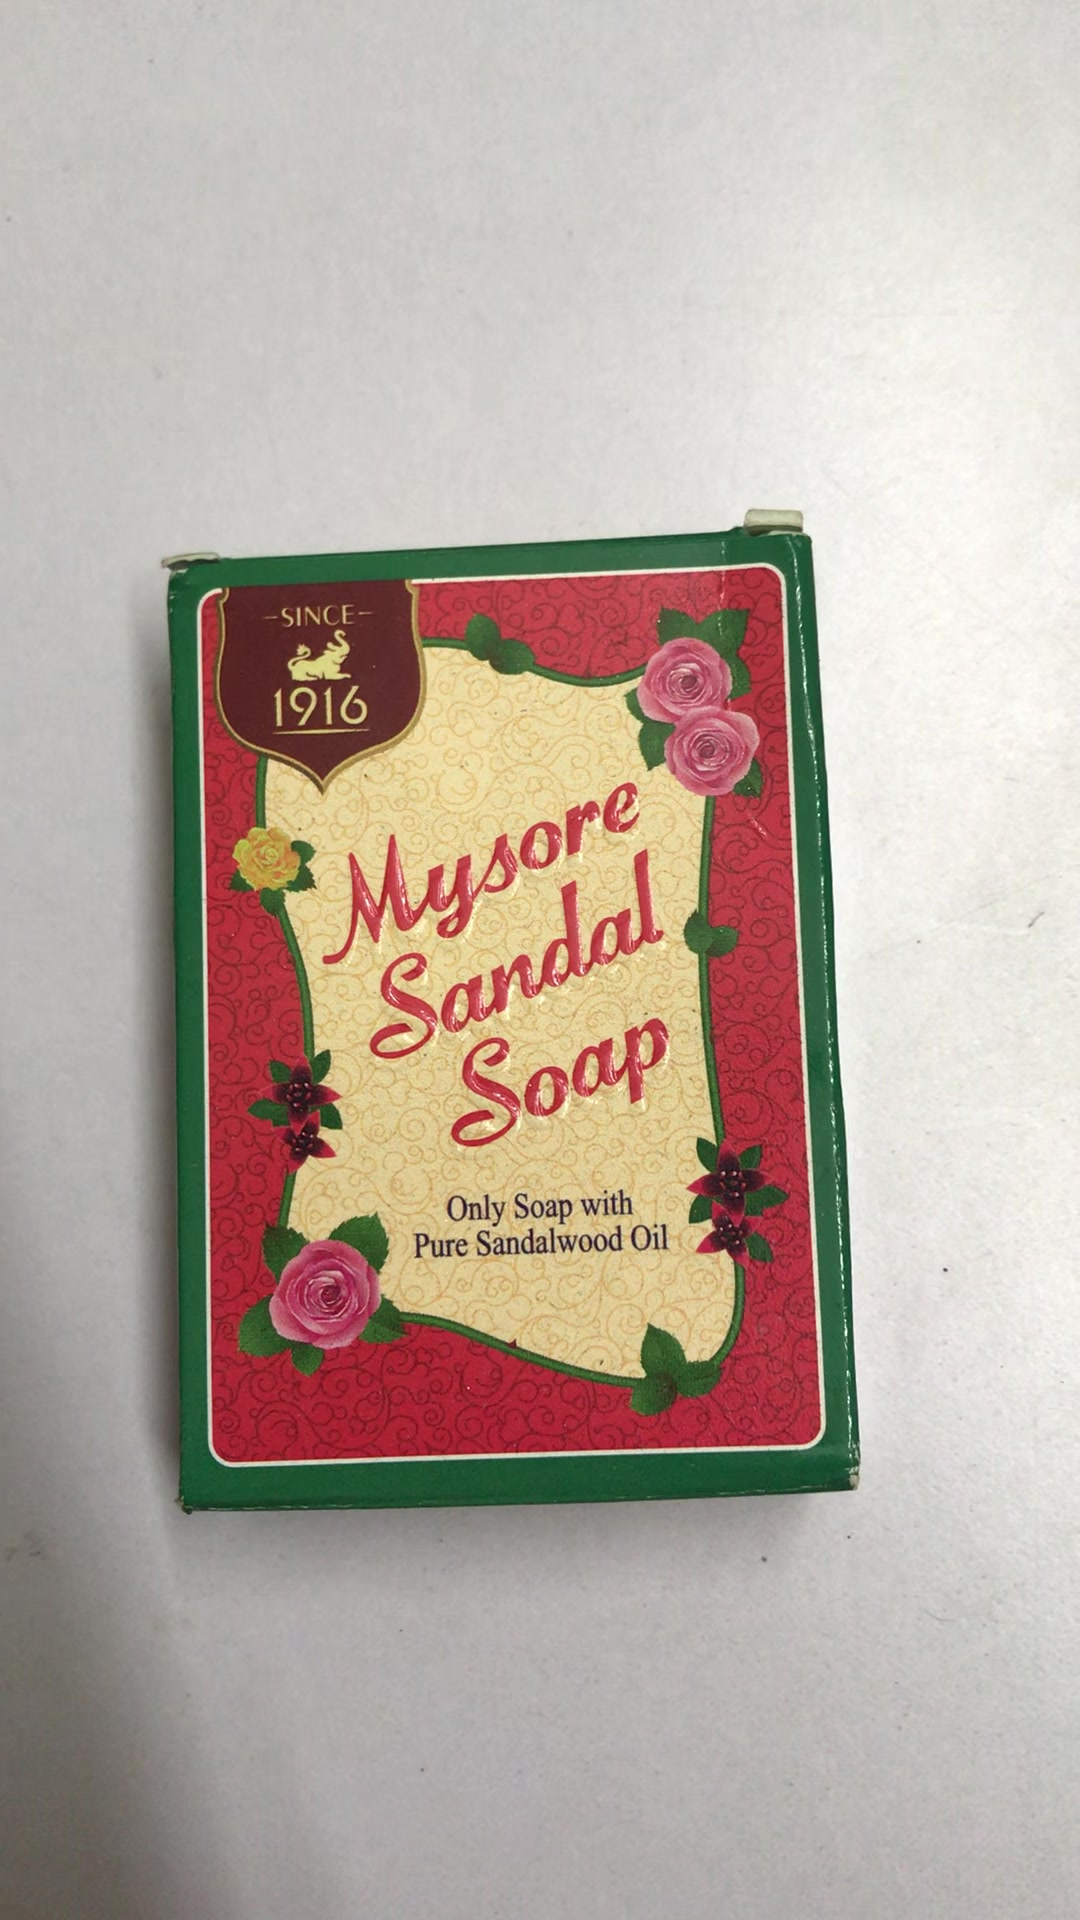mysore sandal soap: (170, 550, 872, 1501)
